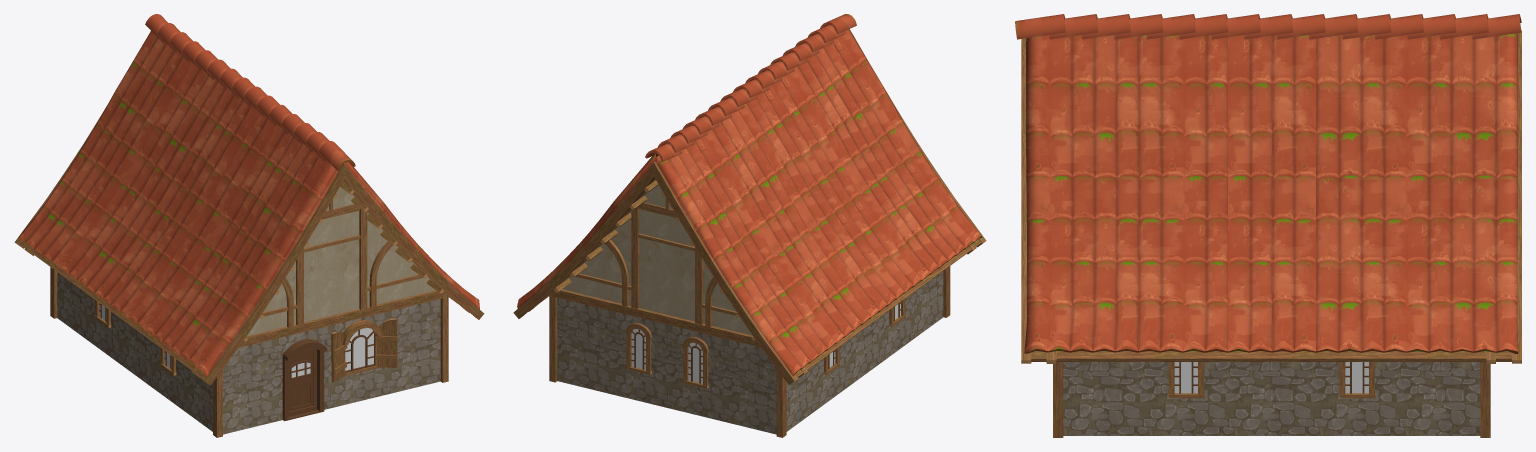
The model's file is fx_storehouse.gltf.
The picture shows the model from 3 angles, left to right: view 1: azimuth 30°, elevation 25°; view 2: azimuth 150°, elevation 25°; view 3: azimuth 270°, elevation 25°; orthographic projection. The views are drawn at different scales.
Visible parts, largest first — view 1: T1_KitRoofRoundTiles8x10061, T1_KitRoofFrontBrick8062, T1_KitWallUnevenBrickStraight001, T1_KitWallUnevenBrickStraight010, T1_KitWallUnevenBrickWindowWideRound006, T1_KitWallUnevenBrickDoorRound002, T1_KitDoor1Round004, T1_KitWindowShuttersWideRoundOpen009, T1_KitWallUnevenBrickStraight023, T1_KitDoorFrameRoundWoodDark003, T1_KitWallUnevenBrickStraight019, T1_KitWallUnevenBrickStraight027 (+6 smaller); view 2: T1_KitRoofRoundTiles8x10061, T1_KitRoofFrontBrick8063, T1_KitWallUnevenBrickStraight011, T1_KitWallUnevenBrickStraight018, T1_KitWallUnevenBrickWindowThinRound015, T1_KitWallUnevenBrickWindowThinRound012, T1_KitWallUnevenBrickStraight023, T1_KitWallUnevenBrickStraight027, T1_KitWallUnevenBrickStraight019, T1_KitWallUnevenBrickWindowThinRound020, T1_KitWallUnevenBrickWindowThinRound024, T1_KitWindowThinRound1013 (+4 smaller); view 3: T1_KitRoofRoundTiles8x10061, T1_KitWallUnevenBrickStraight032, T1_KitWallUnevenBrickStraight028, T1_KitWallUnevenBrickStraight036, T1_KitWallUnevenBrickWindowThinRound029, T1_KitWallUnevenBrickWindowThinRound033, T1_KitWindowThinRound1030, T1_KitWindowThinRound1034, T1_KitCornerExteriorWood038, T1_KitCornerExteriorWood039, T1_WindowGlass031, T1_WindowGlass035.
Part boxes in pixels (x1,y1,x2,y2): T1_KitRoofRoundTiles8x10061: (14,14,484,385); T1_KitRoofFrontBrick8062: (238,182,449,347); T1_KitWallUnevenBrickStraight001: (223,339,274,434); T1_KitWallUnevenBrickStraight010: (387,299,440,394); T1_KitWallUnevenBrickWindowWideRound006: (331,312,387,408); T1_KitWallUnevenBrickDoorRound002: (274,325,330,421); T1_KitDoor1Round004: (288,348,316,416); T1_KitWindowShuttersWideRoundOpen009: (331,318,397,382); T1_KitWallUnevenBrickStraight023: (120,318,152,387); T1_KitDoorFrameRoundWoodDark003: (282,339,327,421); T1_KitWallUnevenBrickStraight019: (57,272,87,340); T1_KitWallUnevenBrickStraight027: (185,366,212,431); T1_KitRoofRoundTiles8x10061: (513,14,986,384); T1_KitRoofFrontBrick8063: (548,180,760,347); T1_KitWallUnevenBrickStraight011: (557,298,611,393); T1_KitWallUnevenBrickStraight018: (724,338,776,434); T1_KitWallUnevenBrickWindowThinRound015: (668,325,724,421); T1_KitWallUnevenBrickWindowThinRound012: (611,311,667,407); T1_KitWallUnevenBrickStraight023: (847,317,879,387); T1_KitWallUnevenBrickStraight027: (912,271,943,339); T1_KitWallUnevenBrickStraight019: (786,365,814,431); T1_KitWallUnevenBrickWindowThinRound020: (814,341,846,411); T1_KitWallUnevenBrickWindowThinRound024: (880,293,912,363); T1_KitWindowThinRound1013: (625,323,651,374); T1_KitRoofRoundTiles8x10061: (1015,14,1521,363); T1_KitWallUnevenBrickStraight032: (1229,362,1314,435); T1_KitWallUnevenBrickStraight028: (1063,362,1143,435); T1_KitWallUnevenBrickStraight036: (1400,362,1480,435); T1_KitWallUnevenBrickWindowThinRound029: (1143,362,1228,435); T1_KitWallUnevenBrickWindowThinRound033: (1314,362,1399,435); T1_KitWindowThinRound1030: (1168,362,1204,398); T1_KitWindowThinRound1034: (1339,362,1375,398); T1_KitCornerExteriorWood038: (1053,362,1063,437); T1_KitCornerExteriorWood039: (1480,362,1490,437); T1_WindowGlass031: (1174,362,1197,393); T1_WindowGlass035: (1345,362,1368,393).
Bounding box in the file's own units: 9.95 × 9.05 × 11.86.
36 materials, 36 textured.
